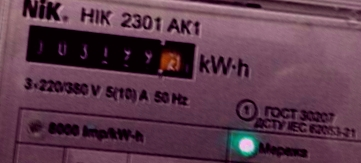0: (54, 40, 67, 60), (31, 38, 43, 57)
1: (98, 42, 109, 61)
3: (76, 42, 88, 64)
6: (163, 59, 175, 74)
9: (119, 44, 131, 65), (141, 49, 153, 68)
screen: (16, 15, 203, 92)
